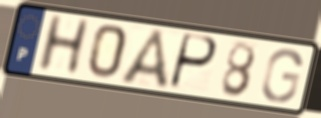0: (85, 22, 130, 81)
8: (219, 40, 258, 99)
A: (117, 27, 172, 92)
G: (260, 47, 305, 104)
H: (33, 13, 94, 76)
P: (166, 31, 220, 93)
